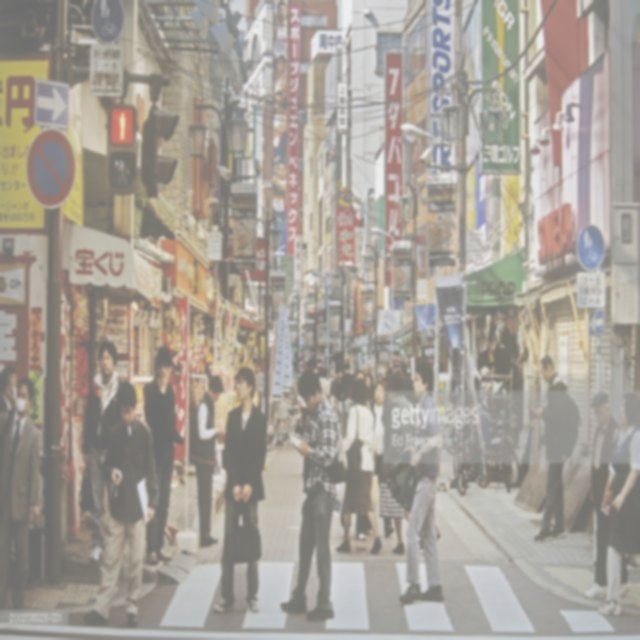pessoa: (80, 373, 158, 634), (278, 361, 349, 623), (210, 359, 268, 617), (398, 358, 446, 607), (0, 372, 44, 627), (78, 339, 124, 564), (596, 386, 640, 620), (583, 389, 630, 601), (531, 352, 581, 544), (142, 346, 185, 566), (334, 372, 384, 556), (382, 366, 414, 556), (340, 367, 373, 542), (268, 0, 293, 228), (193, 371, 225, 548), (369, 378, 395, 540), (276, 371, 302, 423), (316, 361, 340, 410), (0, 363, 20, 416), (250, 352, 268, 404), (361, 362, 392, 389), (338, 361, 354, 413), (398, 358, 413, 391)
